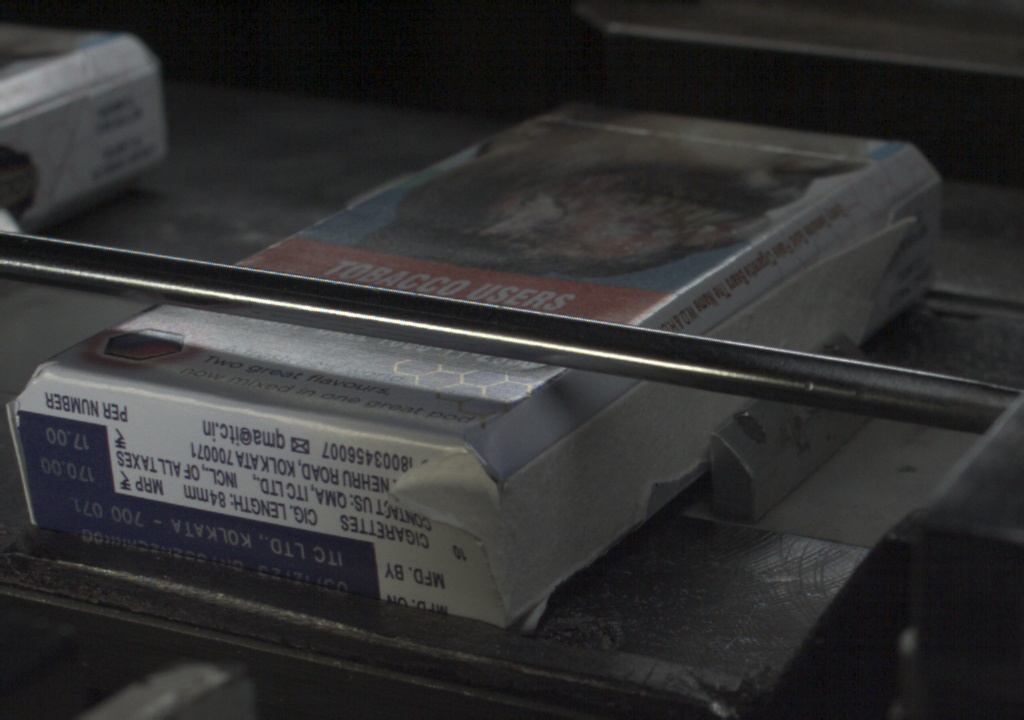g_label: (32, 486, 376, 596)
g_miter: (889, 174, 937, 205)
ng_bottom: (376, 442, 508, 609)
ng_lmiter: (594, 389, 697, 503), (509, 441, 593, 565), (761, 243, 860, 347), (2, 406, 25, 517)
price: (26, 419, 110, 485)
